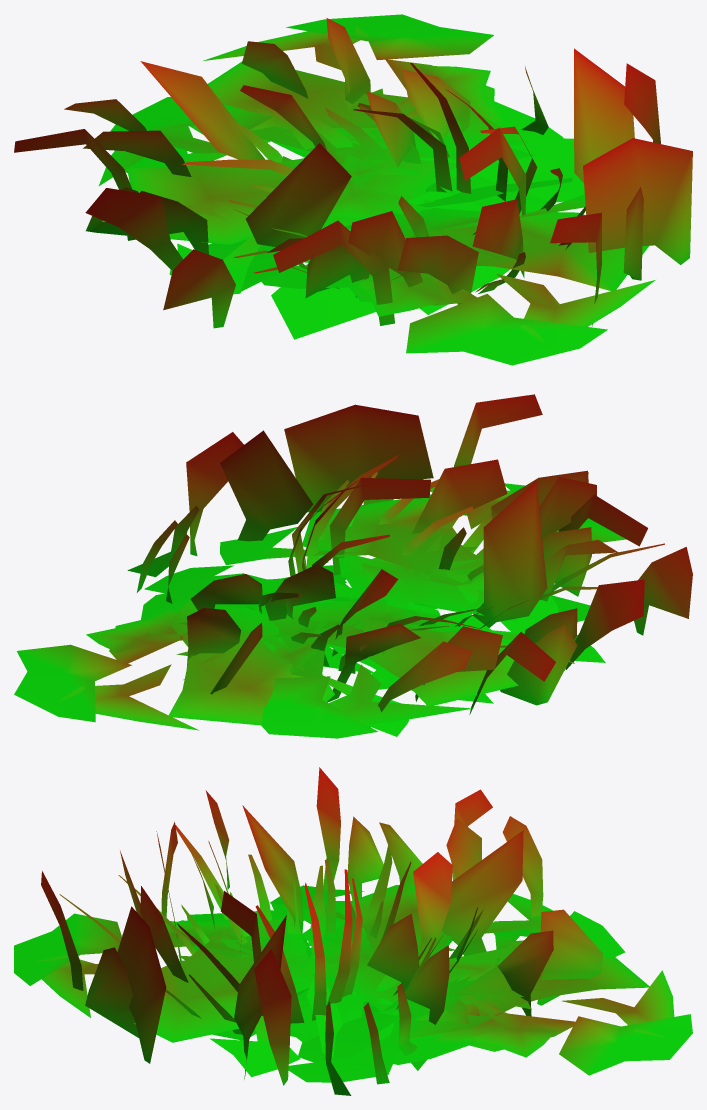
Rendered from Wild Grass_LOD1_Var13_vczndjqja.fbx.
3 views of the same model, one above another, from view 1: azimuth 30°, elevation 25°; view 2: azimuth 150°, elevation 25°; view 3: azimuth 270°, elevation 25° (orthographic). The views are drawn at different scales.
Parts seen in each view (by area): view 1: _ygqn_Var13_LOD1; view 2: _ygqn_Var13_LOD1; view 3: _ygqn_Var13_LOD1.
Part boxes in pixels (box(x1,y1,x2,y2)): _ygqn_Var13_LOD1: box(14, 14, 692, 365); _ygqn_Var13_LOD1: box(14, 394, 692, 738); _ygqn_Var13_LOD1: box(14, 767, 692, 1095).
Size of the model in its own units: 49.7 by 14.25 by 60.21.
